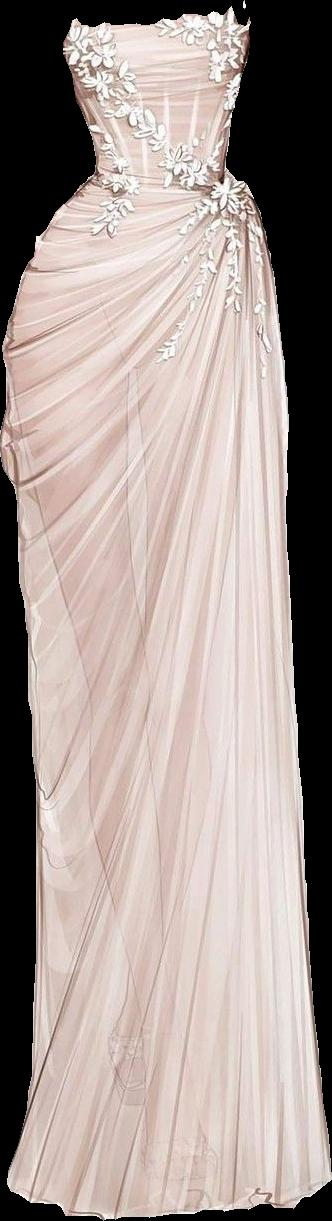Bodice: (63, 7, 251, 194)
Hemline: (3, 1171, 331, 1220)
Neckline: (74, 74, 240, 107), (68, 4, 242, 34)
Skirt: (0, 174, 331, 1216)
Waistline: (86, 167, 236, 195)
